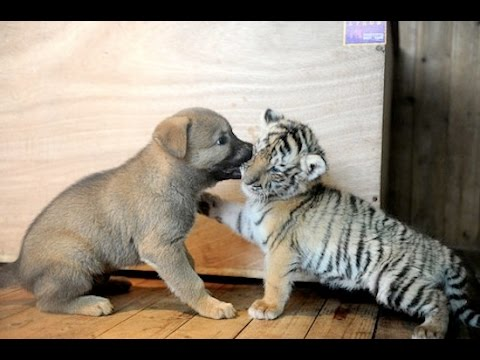dog: (18, 101, 255, 323)
tiger: (236, 100, 480, 337)
